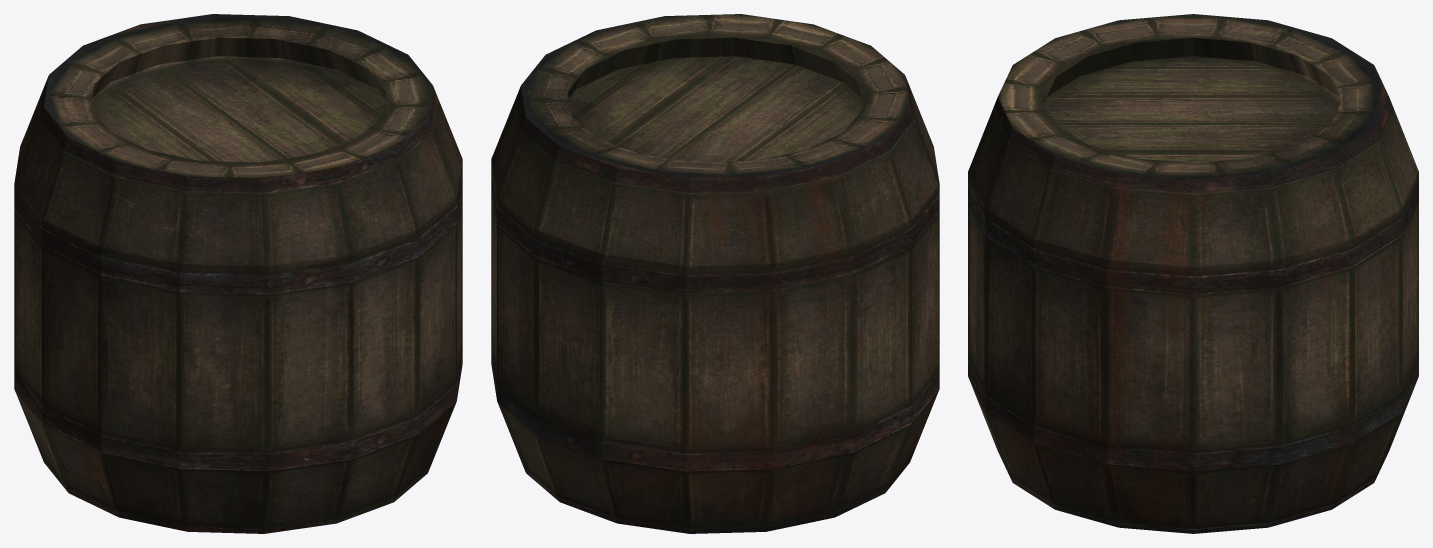
Rendered from Barril_4toE_V2.fbx.
3 renders of one model, left to right at view 1: azimuth 30°, elevation 25°; view 2: azimuth 150°, elevation 25°; view 3: azimuth 270°, elevation 25°, orthographic.
Parts seen in each view (by area): view 1: Cylinder; view 2: Cylinder; view 3: Cylinder.
Boxes of the visible parts, x1,y1,x2,y2 form: Cylinder: [14, 14, 462, 533]; Cylinder: [491, 14, 939, 533]; Cylinder: [968, 14, 1418, 533].
Bounding box in the file's own units: 272 × 236 × 272.
1 material, 1 textured.
